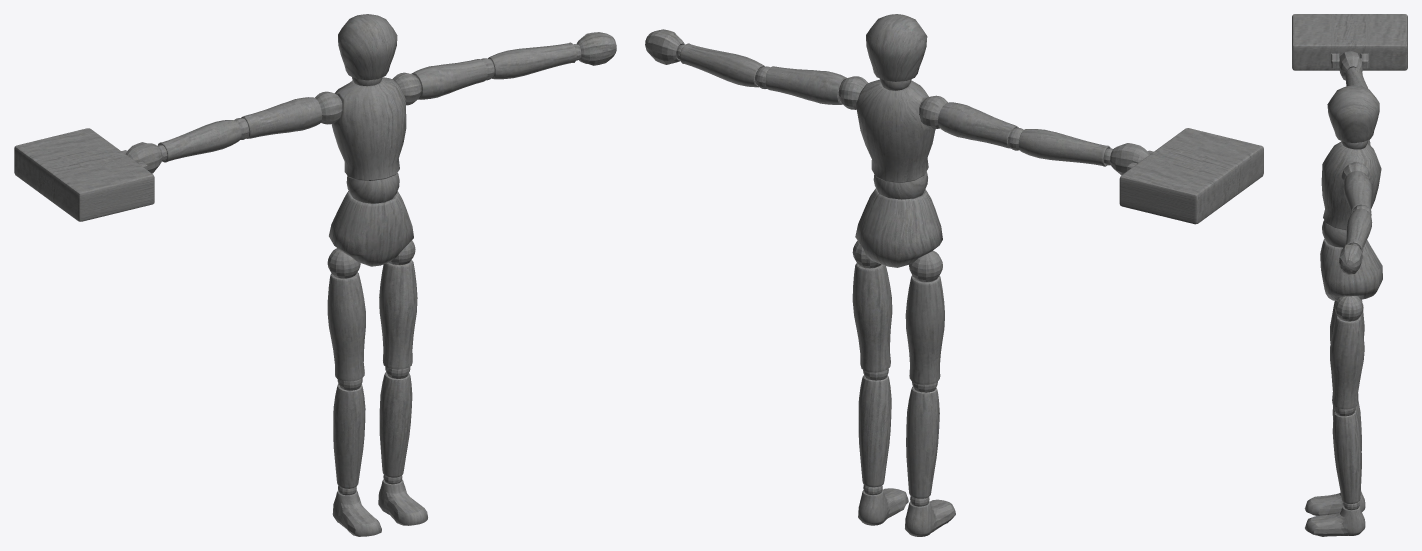
File: mannequinModel.obj
3 views of the same model, side by side, from view 1: azimuth 30°, elevation 25°; view 2: azimuth 150°, elevation 25°; view 3: azimuth 270°, elevation 25° (orthographic). The views are drawn at different scales.
Parts seen in each view (by area): view 1: pCube1, group1 pasted__SM_Torso, pasted__SM_Pelvis group1, pSphere17 polySurface5, pSphere2, group1 pasted__polySurface9, pCylinder4, pSphere17 polySurface6, polySurface1 pSphere14, pSphere5, pCylinder3, pSphere14 polySurface2 (+4 smaller); view 2: pCube1, group1 pasted__SM_Torso, pasted__SM_Pelvis group1, pSphere17 polySurface5, pSphere2, group1 pasted__polySurface9, pCylinder4, pSphere17 polySurface6, pSphere5, polySurface1 pSphere14, pSphere14 polySurface2, pCylinder3 (+4 smaller); view 3: pCube1, pSphere2, group1 pasted__SM_Torso, group1 pasted__polySurface9, pasted__SM_Pelvis group1, pCylinder4, pSphere9, pSphere5, pCylinder3, polySurface4 pSphere17, pSphere8, pSphere14 polySurface3 (+2 smaller).
Part boxes in pixels (<box>): pCube1: <box>14,128,154,221</box>; group1 pasted__SM_Torso: <box>331,77,406,203</box>; pasted__SM_Pelvis group1: <box>329,191,413,266</box>; pSphere17 polySurface5: <box>327,248,365,381</box>; pSphere2: <box>379,240,417,369</box>; group1 pasted__polySurface9: <box>338,14,397,86</box>; pCylinder4: <box>379,366,412,477</box>; pSphere17 polySurface6: <box>333,378,365,488</box>; polySurface1 pSphere14: <box>241,91,342,138</box>; pSphere5: <box>392,59,487,105</box>; pCylinder3: <box>481,42,576,80</box>; pSphere14 polySurface2: <box>157,118,249,162</box>; pCube1: <box>1119,128,1263,224</box>; group1 pasted__SM_Torso: <box>856,79,935,199</box>; pasted__SM_Pelvis group1: <box>855,188,942,267</box>; pSphere17 polySurface5: <box>905,250,944,384</box>; pSphere2: <box>852,240,892,372</box>; group1 pasted__polySurface9: <box>866,14,927,90</box>; pCylinder4: <box>858,369,891,487</box>; pSphere17 polySurface6: <box>906,381,939,498</box>; pSphere5: <box>765,66,867,109</box>; polySurface1 pSphere14: <box>919,95,1018,148</box>; pSphere14 polySurface2: <box>1007,127,1110,166</box>; pCylinder3: <box>680,43,769,88</box>; pCube1: <box>1292,14,1407,70</box>; pSphere2: <box>1330,296,1364,409</box>; group1 pasted__SM_Torso: <box>1321,141,1381,247</box>; group1 pasted__polySurface9: <box>1327,85,1379,149</box>; pasted__SM_Pelvis group1: <box>1320,239,1382,300</box>; pCylinder4: <box>1332,406,1361,503</box>; pSphere9: <box>1305,501,1365,536</box>; pSphere5: <box>1341,162,1372,213</box>; pCylinder3: <box>1346,205,1372,252</box>; polySurface4 pSphere17: <box>1304,490,1365,515</box>; pSphere8: <box>1339,243,1362,274</box>; pSphere14 polySurface3: <box>1339,50,1362,80</box>.
Size of the model in its own units: 208 by 173 by 42.
Materials: 2 (1 with a texture image).
